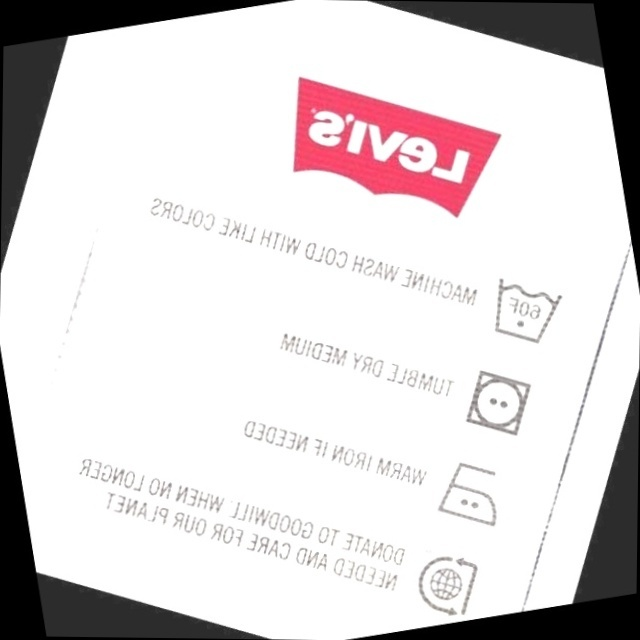30C: (482, 263, 568, 353)
iron_medium: (425, 449, 513, 537)
tumble_dry_medium: (453, 359, 539, 445)
